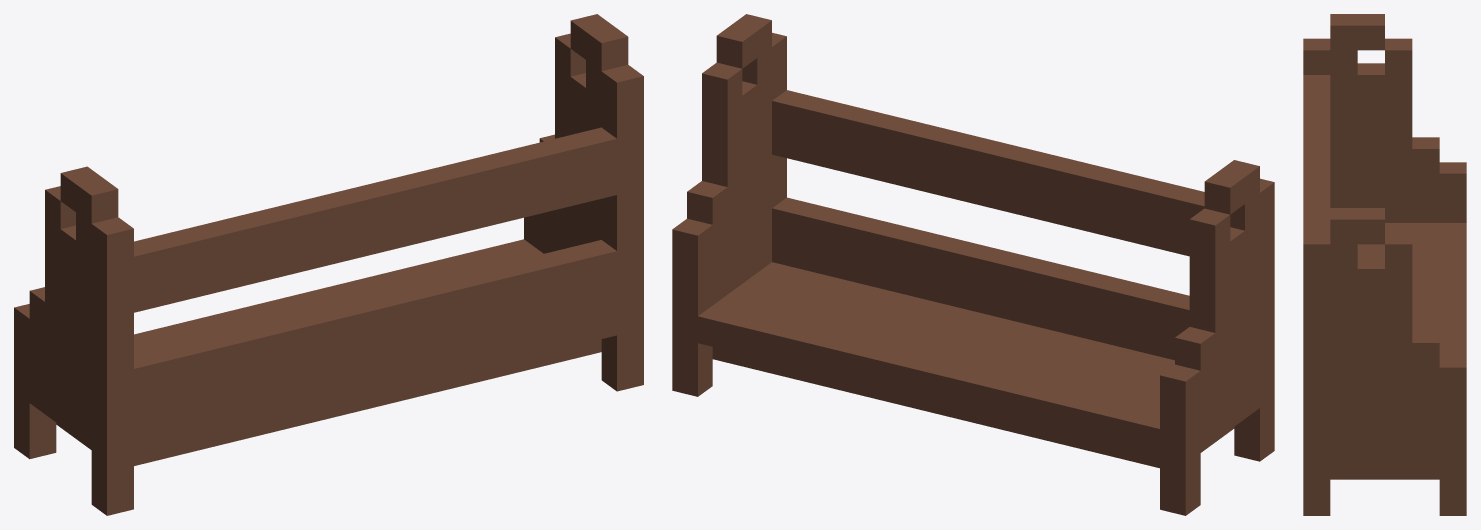
Rendered from church-65-ch_bench.glb.
The picture shows the model from 3 angles, left to right: view 1: azimuth 30°, elevation 25°; view 2: azimuth 150°, elevation 25°; view 3: azimuth 270°, elevation 25°; orthographic projection. The views are drawn at different scales.
Visible parts, largest first — view 1: ch_bench; view 2: ch_bench; view 3: ch_bench.
Part boxes in pixels (x1,y1,x2,y2): ch_bench: (14, 14, 643, 515); ch_bench: (672, 14, 1274, 515); ch_bench: (1303, 14, 1466, 515).
Size of the model in its own units: 2 by 1.2 by 0.6.
1 material, 1 textured.
